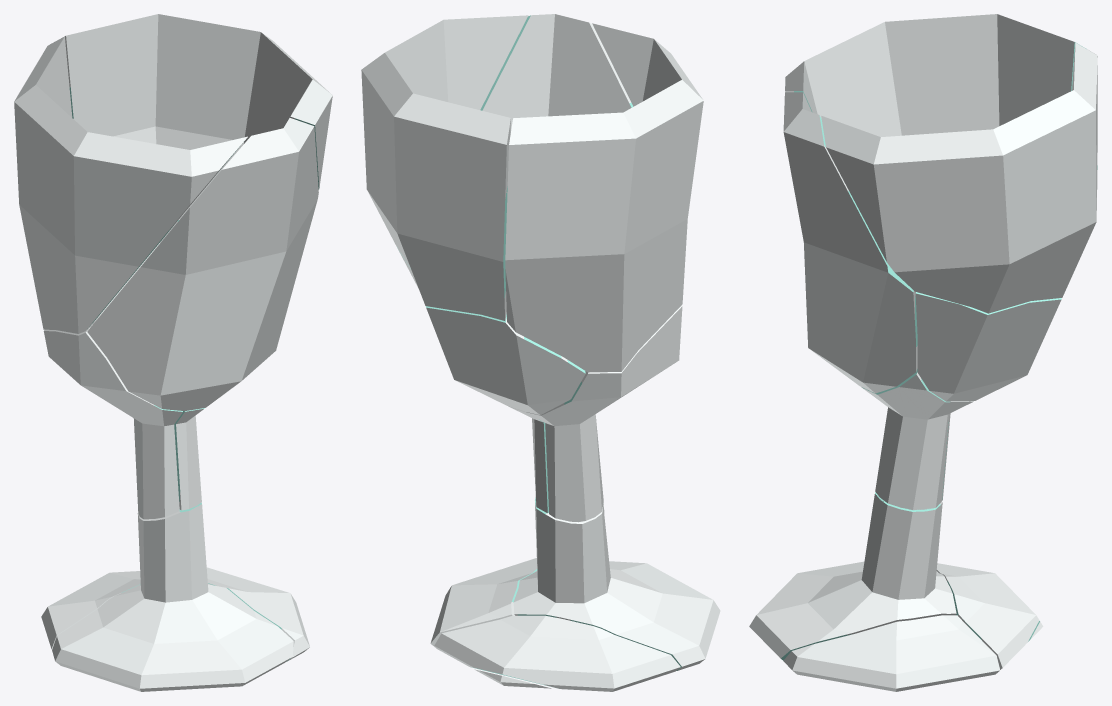
Rendered from Verre_fracture.fbx.
The picture shows the model from 3 angles, left to right: view 1: azimuth 30°, elevation 25°; view 2: azimuth 150°, elevation 25°; view 3: azimuth 270°, elevation 25°; orthographic projection. The views are drawn at different scales.
Visible parts, largest first — view 1: Verre_cell.003, Verre_cell.006, Verre_cell.002, Verre_cell.004, Verre_cell.009, Verre_cell, Verre_cell.005, Verre_cell.001; view 2: Verre_cell.006, Verre_cell.002, Verre_cell.004, Verre_cell.005, Verre_cell.003, Verre_cell.009, Verre_cell.007, Verre_cell, Verre_cell.001; view 3: Verre_cell.002, Verre_cell.006, Verre_cell.003, Verre_cell.004, Verre_cell.007, Verre_cell, Verre_cell.001, Verre_cell.005.
Boxes of the visible parts, x1,y1,x2,y2 form: Verre_cell.003: [87, 118, 318, 410]; Verre_cell.006: [14, 36, 247, 333]; Verre_cell.002: [51, 14, 332, 219]; Verre_cell.004: [52, 502, 293, 691]; Verre_cell.009: [43, 321, 182, 519]; Verre_cell: [206, 567, 309, 661]; Verre_cell.005: [41, 571, 140, 649]; Verre_cell.001: [174, 408, 204, 510]; Verre_cell.006: [505, 23, 703, 372]; Verre_cell.002: [361, 15, 528, 320]; Verre_cell.004: [513, 502, 720, 670]; Verre_cell.005: [434, 615, 680, 691]; Verre_cell.003: [480, 14, 633, 132]; Verre_cell.009: [526, 305, 682, 522]; Verre_cell.007: [397, 247, 585, 415]; Verre_cell: [430, 558, 537, 650]; Verre_cell.001: [508, 406, 548, 513]; Verre_cell.002: [821, 43, 1097, 313]; Verre_cell.006: [785, 14, 1097, 169]; Verre_cell.003: [783, 92, 917, 393]; Verre_cell.004: [749, 492, 956, 660]; Verre_cell.007: [915, 292, 1061, 401]; Verre_cell: [783, 615, 1000, 691]; Verre_cell.001: [861, 369, 973, 510]; Verre_cell.005: [936, 563, 1039, 669].
Size of the model in its own units: 33.07 by 64.27 by 35.19.
